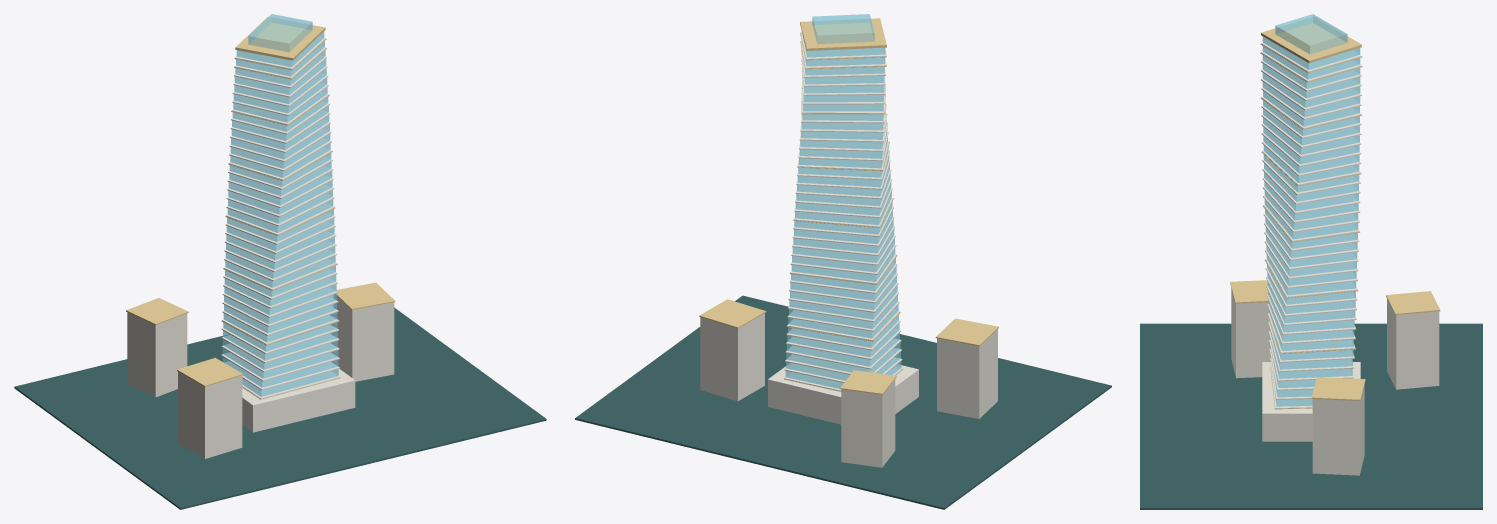
Rendered from rainbow.glb.
3 renders of one model, left to right at view 1: azimuth 30°, elevation 25°; view 2: azimuth 150°, elevation 25°; view 3: azimuth 270°, elevation 25°, orthographic. The views are drawn at different scales.
Parts seen in each view (by area): view 1: building; view 2: building; view 3: building.
Part boxes in pixels (left/top/right/bottom): building: left=14, top=14, right=546, bottom=509; building: left=575, top=14, right=1111, bottom=509; building: left=1140, top=14, right=1482, bottom=509.
Size of the model in its own units: 129 by 126 by 101.
